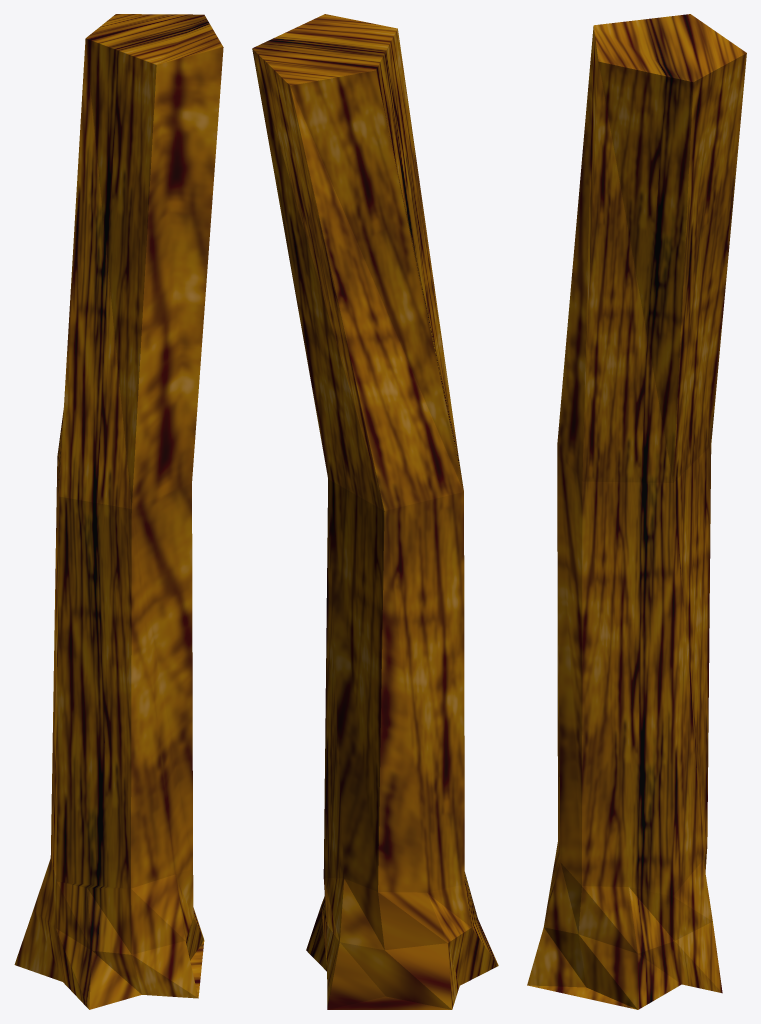
File: MTree_9.gltf
3 renders of one model, left to right at view 1: azimuth 30°, elevation 25°; view 2: azimuth 150°, elevation 25°; view 3: azimuth 270°, elevation 25°, orthographic. The views are drawn at different scales.
Visible parts, largest first — view 1: MTree_9; view 2: MTree_9; view 3: MTree_9.
Part boxes in pixels (box(x1,y1,x2,y2)): MTree_9: box(14, 14, 223, 1009); MTree_9: box(252, 14, 498, 1009); MTree_9: box(527, 14, 746, 1009).
Size of the model in its own units: 4.08 by 18.59 by 3.84.
Materials: 1 (1 with a texture image).
